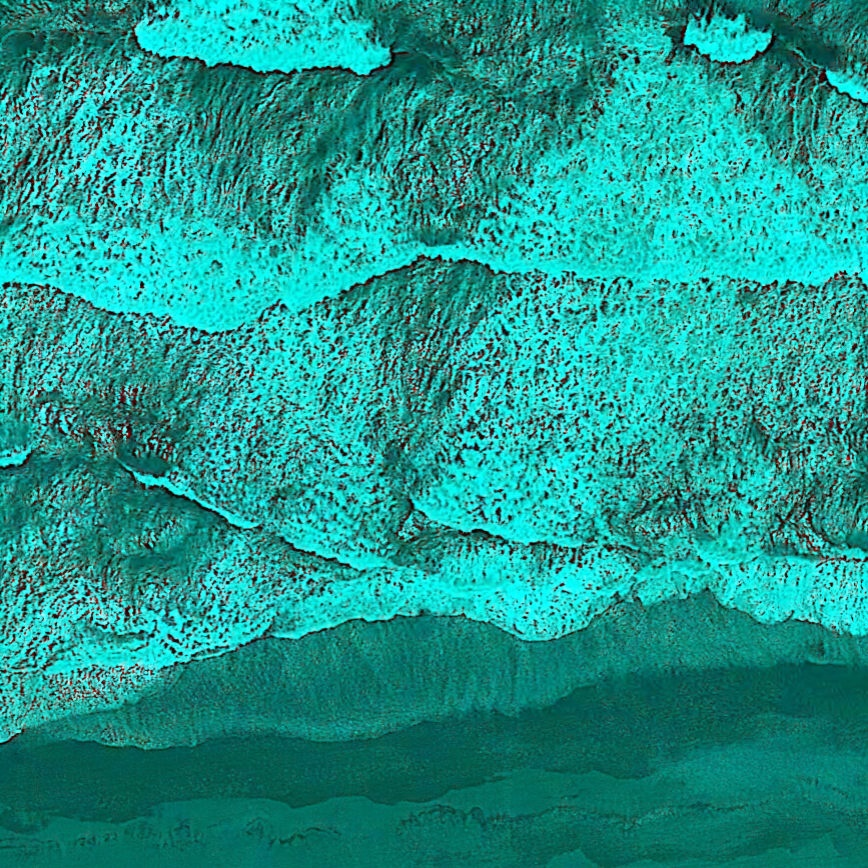rip_current: (337, 93, 528, 566)
